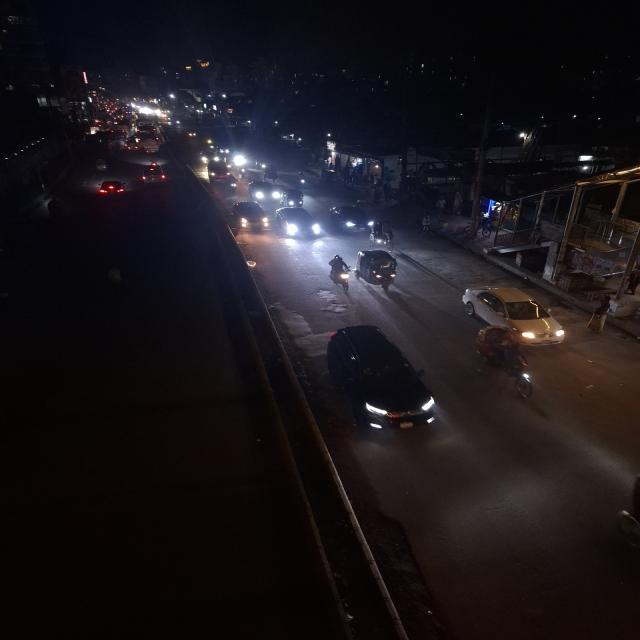bus: (140, 136, 162, 156)
car: (318, 320, 441, 434), (458, 281, 569, 345), (275, 205, 325, 243), (327, 201, 375, 234), (230, 199, 271, 233), (247, 178, 282, 204), (96, 176, 128, 200), (139, 160, 167, 186), (206, 160, 232, 182)
cng: (355, 247, 404, 293), (281, 187, 307, 209)
motorcycle: (472, 324, 538, 400), (324, 254, 353, 294), (92, 155, 110, 175), (295, 169, 310, 189), (225, 175, 240, 193)
pedestrian: (585, 294, 618, 334)
rickshaw: (472, 324, 540, 400)
